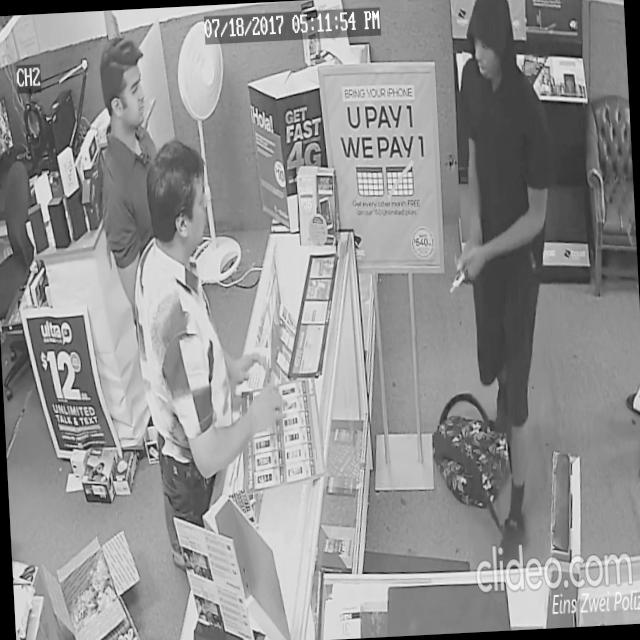gun: (448, 260, 470, 302)
person: (123, 132, 294, 560), (92, 31, 180, 356)
person with a gun: (433, 0, 572, 571)
